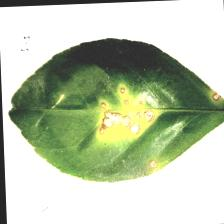canker: (75, 69, 224, 177)
